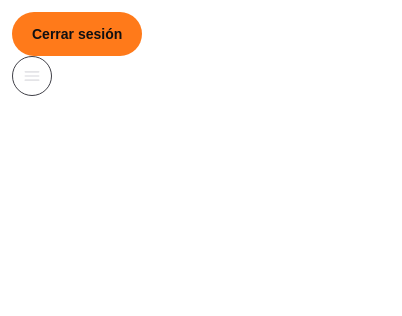
Test: AccionesHeader › el menú móvil se abre y se cierra con el botón y con Escape
This screenshot has width=402, height=316.
Click the button named "Menú" at (32, 76), box x1=12 y1=56 x2=52 y2=96
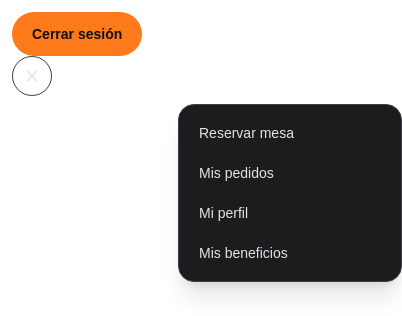
expect the list with id "menu-movil" is shown: met, box x1=178 y1=104 x2=401 y2=282
Press Escape
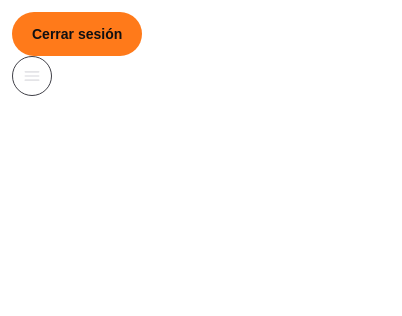
expect the list with id "menu-movil" is gone: met
